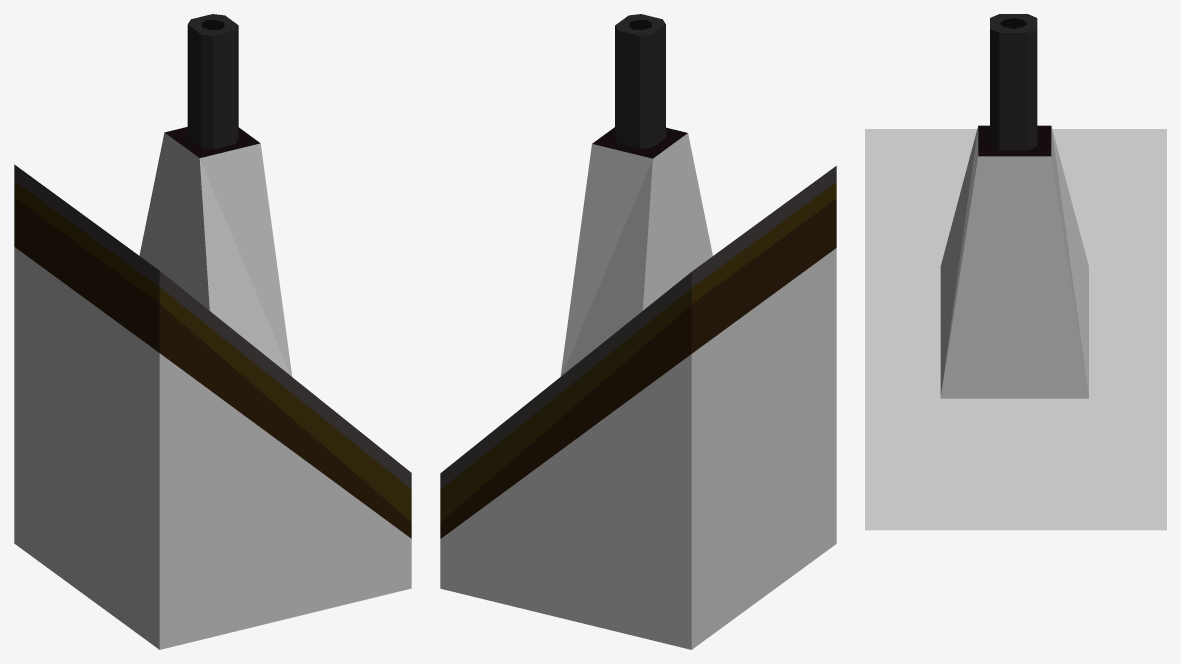
File: model_loc_1666_a.obj
3 views of the same model, side by side, from view 1: azimuth 30°, elevation 25°; view 2: azimuth 150°, elevation 25°; view 3: azimuth 270°, elevation 25° (orthographic). The views are drawn at different scales.
Visible parts, largest first — view 1: 957; view 2: 957; view 3: 957.
Boxes of the visible parts, x1,y1,x2,y2 form: 957: (14, 14, 411, 649); 957: (440, 14, 836, 649); 957: (865, 14, 1166, 530).
Size of the model in its own units: 128 by 263 by 128.
